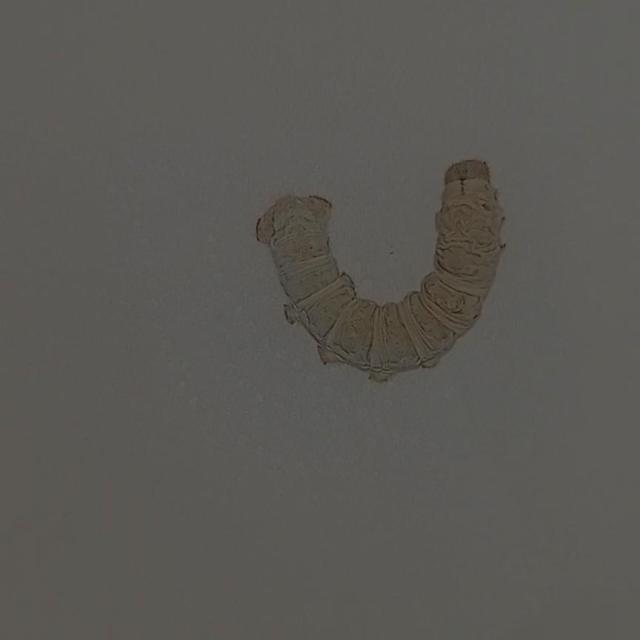Healthy: (246, 150, 514, 392)
